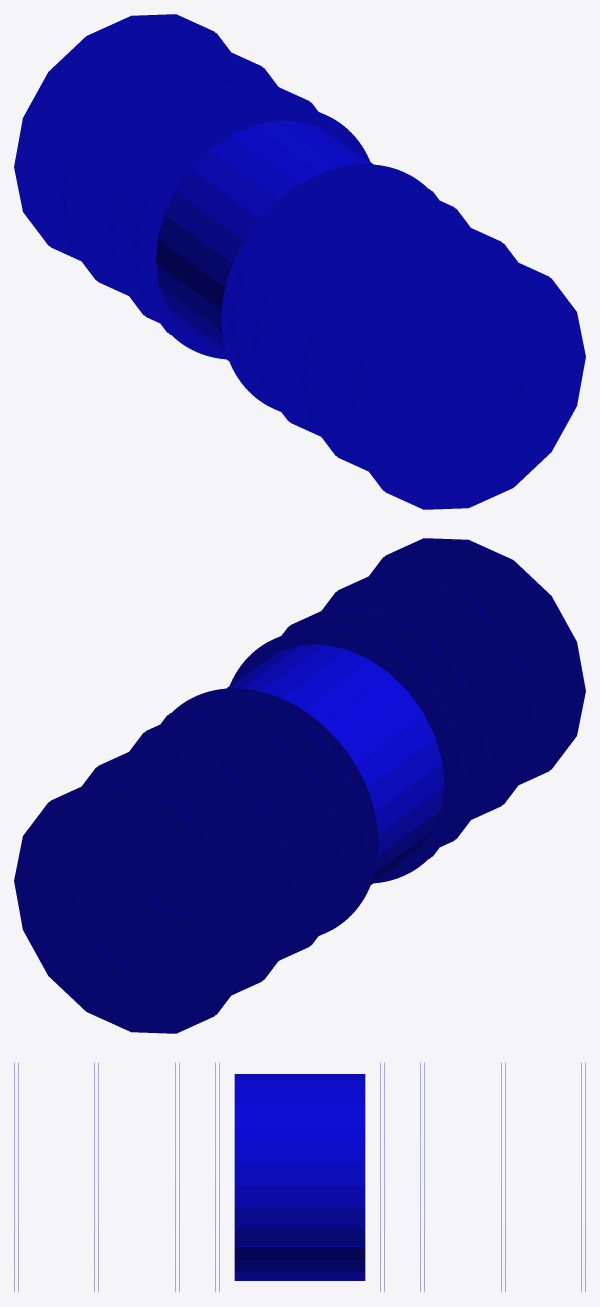
File: Vertex.gltf
The picture shows the model from 3 angles, top to bottom: view 1: azimuth 30°, elevation 25°; view 2: azimuth 150°, elevation 25°; view 3: azimuth 270°, elevation 25°; orthographic projection. The views are drawn at different scales.
Visible parts, largest first — view 1: Vertex; view 2: Vertex; view 3: Vertex.
Part boxes in pixels (box(x1,y1,x2,y2)): Vertex: box(14, 14, 585, 509); Vertex: box(14, 538, 585, 1033); Vertex: box(14, 1063, 585, 1291).
Bounding box in the file's own units: 229 × 229 × 569.
